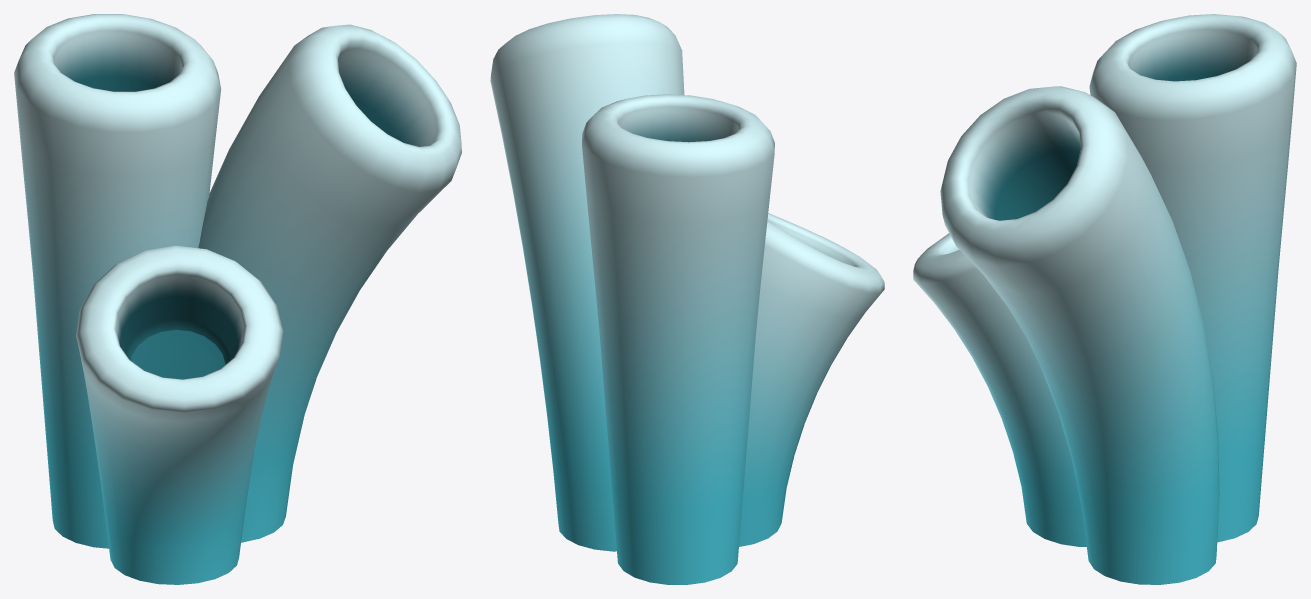
The model's file is SM_Coral_Bunch01.fbx.
3 renders of one model, left to right at view 1: azimuth 30°, elevation 25°; view 2: azimuth 150°, elevation 25°; view 3: azimuth 270°, elevation 25°, orthographic. The views are drawn at different scales.
Visible parts, largest first — view 1: Coral_Base2, Coral_Base3, Coral_Base1; view 2: Coral_Base3, Coral_Base2, Coral_Base1; view 3: Coral_Base2, Coral_Base3, Coral_Base1.
Part boxes in pixels (box(x1,y1,x2,y2)): Coral_Base2: box(198, 24, 461, 542); Coral_Base3: box(14, 14, 221, 548); Coral_Base1: box(76, 245, 283, 584); Coral_Base3: box(582, 94, 774, 584); Coral_Base2: box(490, 14, 684, 551); Coral_Base1: box(739, 213, 884, 546); Coral_Base2: box(940, 86, 1219, 584); Coral_Base3: box(1089, 14, 1296, 542); Coral_Base1: box(913, 233, 1086, 546).
Bounding box in the file's own units: 1.9 × 2.37 × 1.66.
1 material, 1 textured.
